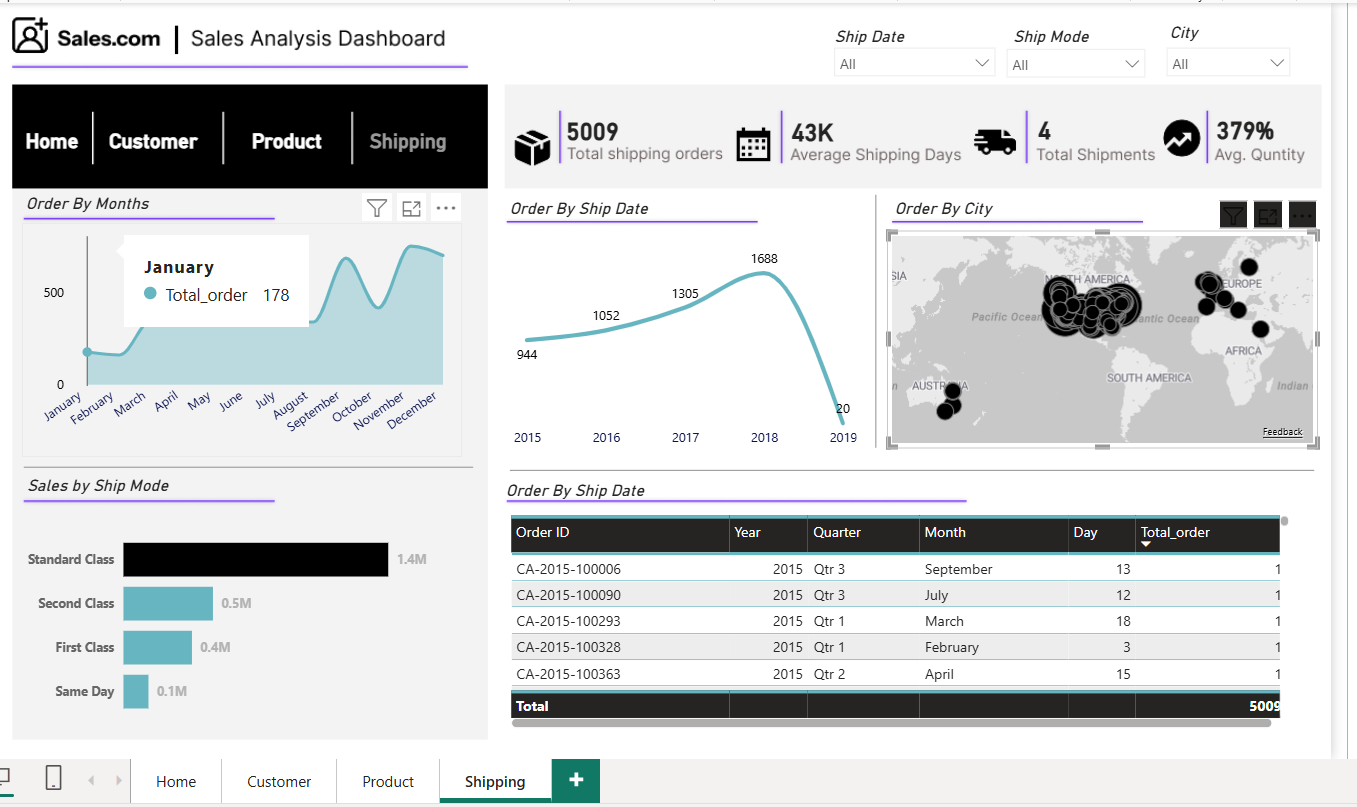

The page's visual inventory and layout, read from the dashboard file:
{"tool":"powerbi","page":{"name":"Shipping","canvas":[1280,720],"ordinal":3},"visuals":[{"type":"actionButton","title":"Home","box":[11.9,120.2,100,40.5],"z":0},{"type":"actionButton","title":"Customer","box":[108.3,120.2,100,40.5],"z":1000},{"type":"actionButton","title":"Product","box":[235.7,120.2,100,40.5],"z":2000},{"type":"actionButton","title":"Shipping","box":[351.2,120.2,100,40.5],"z":3000},{"type":"card","fields":{"Values":["DAX Measure.Total_order"]},"box":[537.9,104.3,76.8,34.3],"z":4000},{"type":"card","fields":{"Values":["DAX Measure.Shipping Days"]},"box":[739.7,105.3,93.9,35.5],"z":5000},{"type":"card","fields":{"Values":["DAX Measure.Total Shipments"]},"box":[975.7,104,62.2,35.5],"z":6000},{"type":"card","fields":{"Values":["DAX Measure.Avg.Quantity"]},"box":[1152.1,104,92.6,35.5],"z":7000},{"type":"areaChart","fields":{"Category":["DateDim.Order Date.Variation.Date Hierarchy.Month"],"Y":["DAX Measure.Total_order"]},"box":[33.5,209.9,418.5,222.3],"z":8000},{"type":"textbox","title":"Order By Months","box":[32.1,182.1,176.2,26.2],"z":8001},{"type":"azureMap","fields":{"Category":["CustomerDim.City"],"Size":["DAX Measure.Total_order"]},"box":[857.1,216.7,410.7,207.1],"z":8002},{"type":"textbox","title":"Order By City","box":[859.5,186.9,176.2,26.2],"z":8003},{"type":"barChart","fields":{"Category":["Sales.Ship Mode"],"Y":["DAX Measure.Total_sales"]},"box":[32.1,484.5,396.4,210.7],"z":8004},{"type":"textbox","title":"Sales by Ship Mode","box":[33.3,450,176.2,26.2],"z":8005},{"type":"lineChart","fields":{"Category":["Sales.Ship Date.Variation.Date Hierarchy.Year","Sales.Ship Date.Variation.Date Hierarchy.Quarter","Sales.Ship Date.Variation.Date Hierarchy.Month","Sales.Ship Date.Variation.Date Hierarchy.Day"],"Y":["DAX Measure.Total_order"]},"box":[496.4,216.7,336.9,215.5],"z":8006},{"type":"textbox","title":"Order By Ship Date","box":[492.9,186.9,176.2,26.2],"z":8007},{"type":"tableEx","fields":{"Values":["Sales.Order ID","Sales.Ship Date.Variation.Date Hierarchy.Year","Sales.Ship Date.Variation.Date Hierarchy.Quarter","Sales.Ship Date.Variation.Date Hierarchy.Month","Sales.Ship Date.Variation.Date Hierarchy.Day","DAX Measure.Total_order"]},"box":[492.9,483.3,752.4,211.9],"z":8008},{"type":"textbox","title":"Order By Ship Date","box":[489.3,454.8,176.2,26.2],"z":8009},{"type":"textbox","title":"City","box":[1121.4,19,60.7,26.2],"z":8010},{"type":"slicer","fields":{"Values":["DateDim.Order Date.Variation.Date Hierarchy.Year"]},"box":[1113.1,32.1,138.1,48.8],"z":8011},{"type":"textbox","title":"Ship Mode","box":[972.6,22.6,85.7,27.4],"z":8012},{"type":"slicer","fields":{"Values":["Sales.Ship Mode"]},"box":[960.7,33.3,152.4,48.8],"z":8013},{"type":"slicer","fields":{"Values":["Sales.Ship Date.Variation.Date Hierarchy.Year","Sales.Ship Date.Variation.Date Hierarchy.Quarter","Sales.Ship Date.Variation.Date Hierarchy.Month","Sales.Ship Date.Variation.Date Hierarchy.Day"]},"box":[796.4,32.1,173.8,48.8],"z":8014},{"type":"textbox","title":"Ship Date","box":[802.4,22.6,116.7,22.6],"z":8015}]}

Visuals, with their boxes on the page's 1280x720 design canvas (x1, y1, x2, y2). These are canvas units, not pixel positions in the 1357x807 screenshot, which may show the page scaled, cropped or inside an application window:
"Home" actionButton: x1=12 y1=120 x2=112 y2=161
"Customer" actionButton: x1=108 y1=120 x2=208 y2=161
"Product" actionButton: x1=236 y1=120 x2=336 y2=161
"Shipping" actionButton: x1=351 y1=120 x2=451 y2=161
card - DAX Measure.Total_order: x1=538 y1=104 x2=615 y2=139
card - DAX Measure.Shipping Days: x1=740 y1=105 x2=834 y2=141
card - DAX Measure.Total Shipments: x1=976 y1=104 x2=1038 y2=140
card - DAX Measure.Avg.Quantity: x1=1152 y1=104 x2=1245 y2=140
areaChart - DateDim.Order Date.Variation.Date Hierarchy.Month x DAX Measure.Total_order: x1=34 y1=210 x2=452 y2=432
"Order By Months" textbox: x1=32 y1=182 x2=208 y2=208
azureMap - CustomerDim.City x DAX Measure.Total_order: x1=857 y1=217 x2=1268 y2=424
"Order By City" textbox: x1=860 y1=187 x2=1036 y2=213
barChart - Sales.Ship Mode x DAX Measure.Total_sales: x1=32 y1=484 x2=428 y2=695
"Sales by Ship Mode" textbox: x1=33 y1=450 x2=210 y2=476
lineChart - Sales.Ship Date.Variation.Date Hierarchy.Year x Sales.Ship Date.Variation.Date Hierarchy.Quarter: x1=496 y1=217 x2=833 y2=432
"Order By Ship Date" textbox: x1=493 y1=187 x2=669 y2=213
tableEx - Sales.Order ID x Sales.Ship Date.Variation.Date Hierarchy.Year: x1=493 y1=483 x2=1245 y2=695
"Order By Ship Date" textbox: x1=489 y1=455 x2=666 y2=481
"City" textbox: x1=1121 y1=19 x2=1182 y2=45
slicer - DateDim.Order Date.Variation.Date Hierarchy.Year: x1=1113 y1=32 x2=1251 y2=81
"Ship Mode" textbox: x1=973 y1=23 x2=1058 y2=50
slicer - Sales.Ship Mode: x1=961 y1=33 x2=1113 y2=82
slicer - Sales.Ship Date.Variation.Date Hierarchy.Year x Sales.Ship Date.Variation.Date Hierarchy.Quarter: x1=796 y1=32 x2=970 y2=81
"Ship Date" textbox: x1=802 y1=23 x2=919 y2=45
